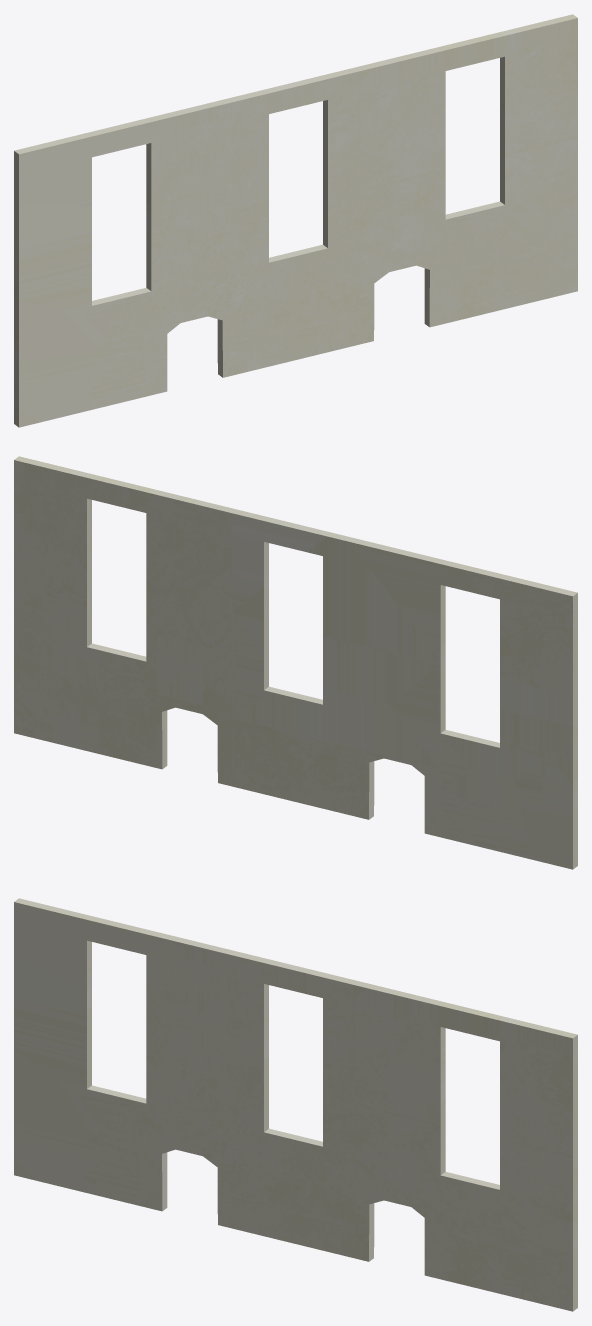
The model's file is Main_Room_Front.fbx.
The picture shows the model from 3 angles, top to bottom: view 1: azimuth 30°, elevation 25°; view 2: azimuth 150°, elevation 25°; view 3: azimuth 330°, elevation 25°; orthographic projection.
Parts seen in each view (by area): view 1: pCube15; view 2: pCube15; view 3: pCube15.
Part boxes in pixels (box(x1,y1,x2,y2)): pCube15: box(14, 14, 577, 427); pCube15: box(14, 456, 577, 869); pCube15: box(14, 898, 577, 1311).
Size of the model in its own units: 8061 by 3766 by 127.
1 material, 1 textured.
